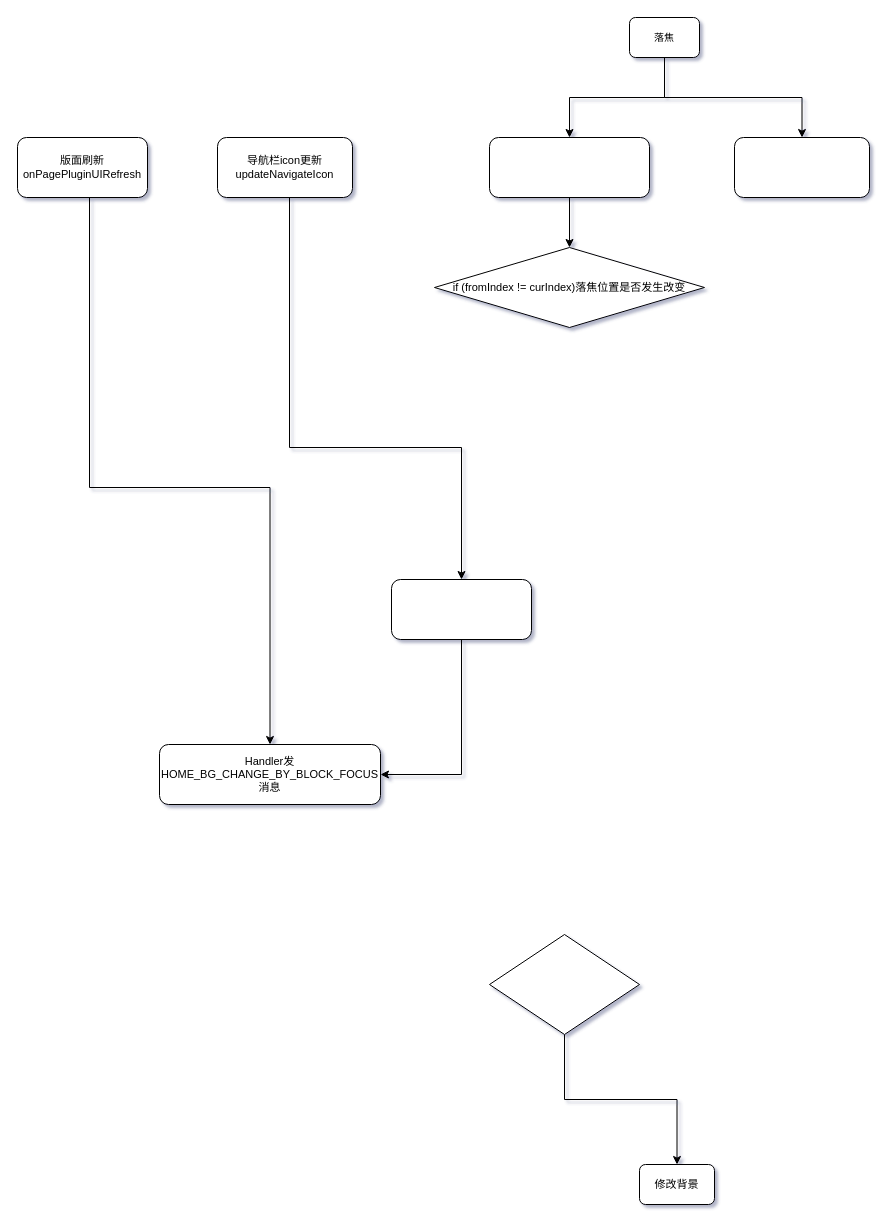
Some shapes in this 893 by 1228 pixel diagram are drawn without their labels. The shapes that lost their labels are listed below. From the top down, each one's centre as x and y in pixels, then its label:
At point 569,167: "导航栏item切换onNavigateLayoutGetFocus".
At point 802,167: "Block落焦".
At point 461,609: "onPageChanged".
